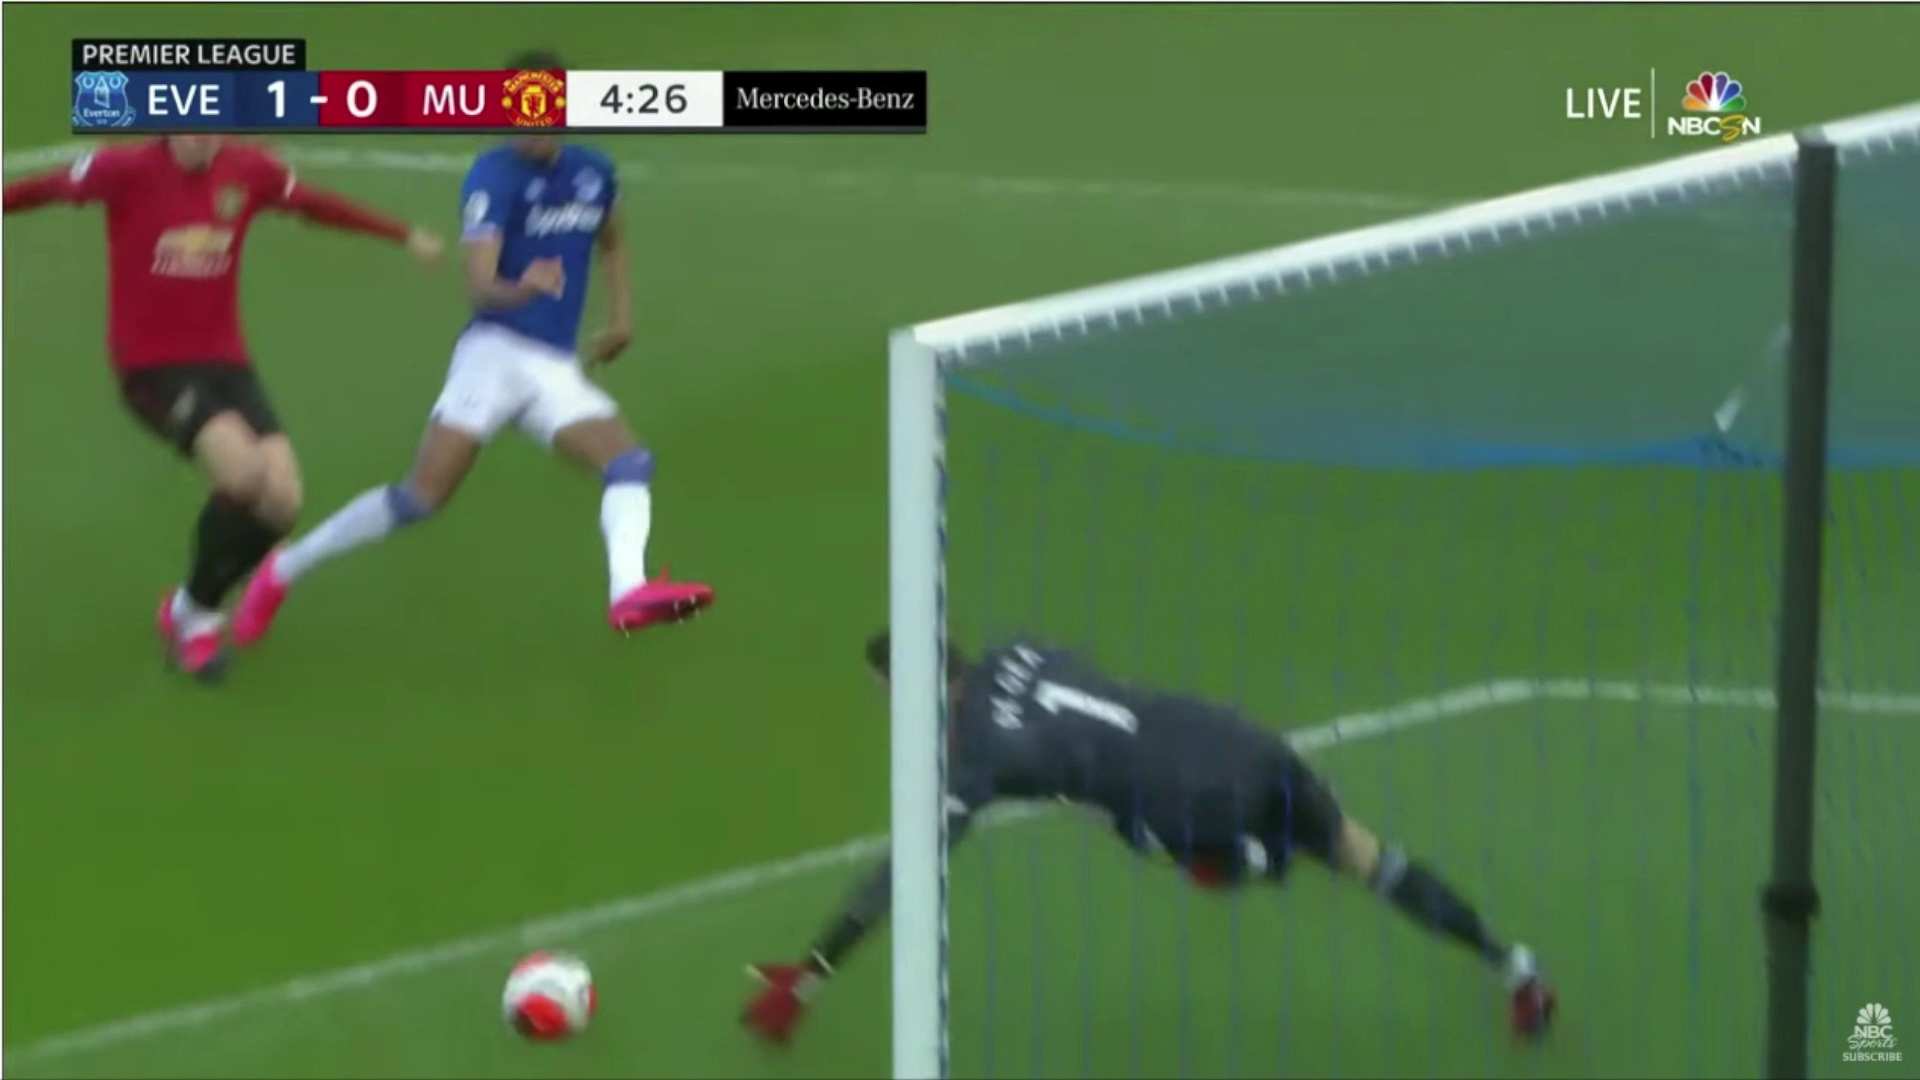ball: (481, 937, 637, 1048)
player: (710, 623, 1595, 1044), (275, 44, 760, 679), (33, 83, 395, 679)
